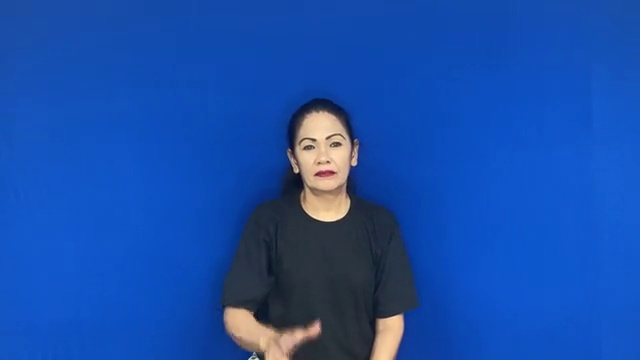chicken: (246, 307, 328, 360)
